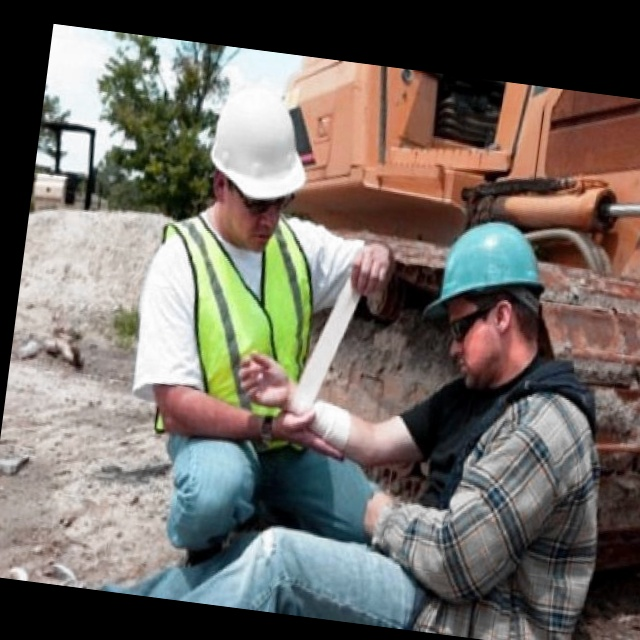Con_Chaleco: (132, 195, 324, 446)
Sin_Chaleco: (397, 364, 613, 640)
